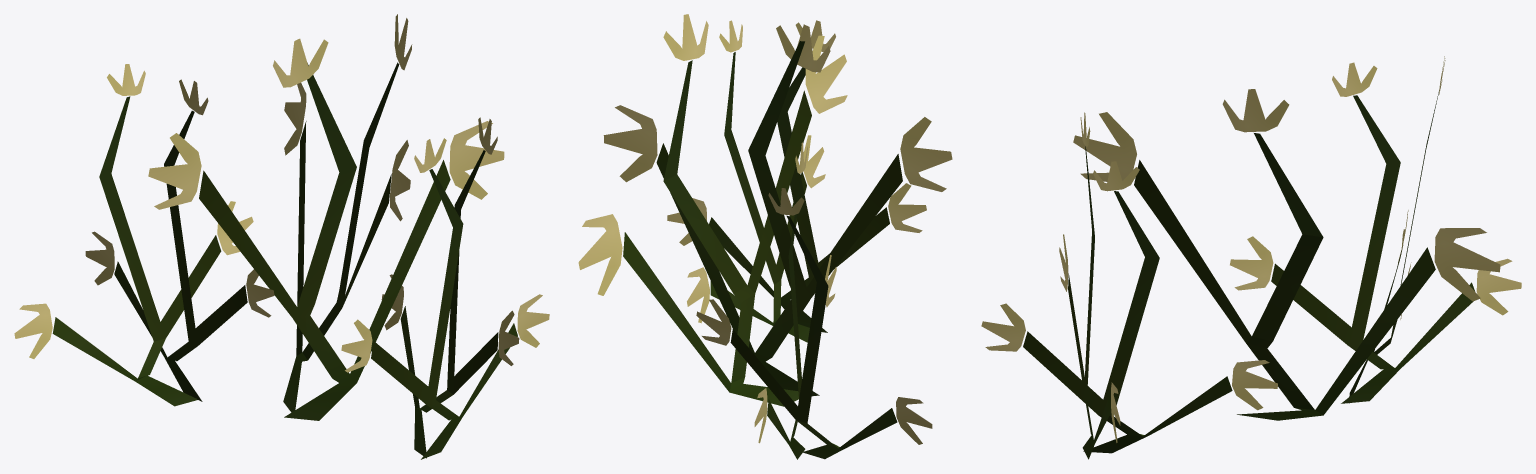
Rendered from shrub2.glb.
3 views of the same model, side by side, from view 1: azimuth 30°, elevation 25°; view 2: azimuth 150°, elevation 25°; view 3: azimuth 270°, elevation 25° (orthographic). The views are drawn at different scales.
Parts seen in each view (by area): view 1: Shrub; view 2: Shrub; view 3: Shrub.
Boxes of the visible parts, <box> form: Shrub: <box>14,14,549,459</box>; Shrub: <box>578,14,952,459</box>; Shrub: <box>981,56,1521,459</box>.
Size of the model in its own units: 0.8815 by 0.7925 by 0.9333.
1 material, 1 textured.
